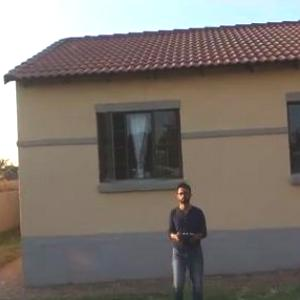follow: (159, 179, 210, 299)
